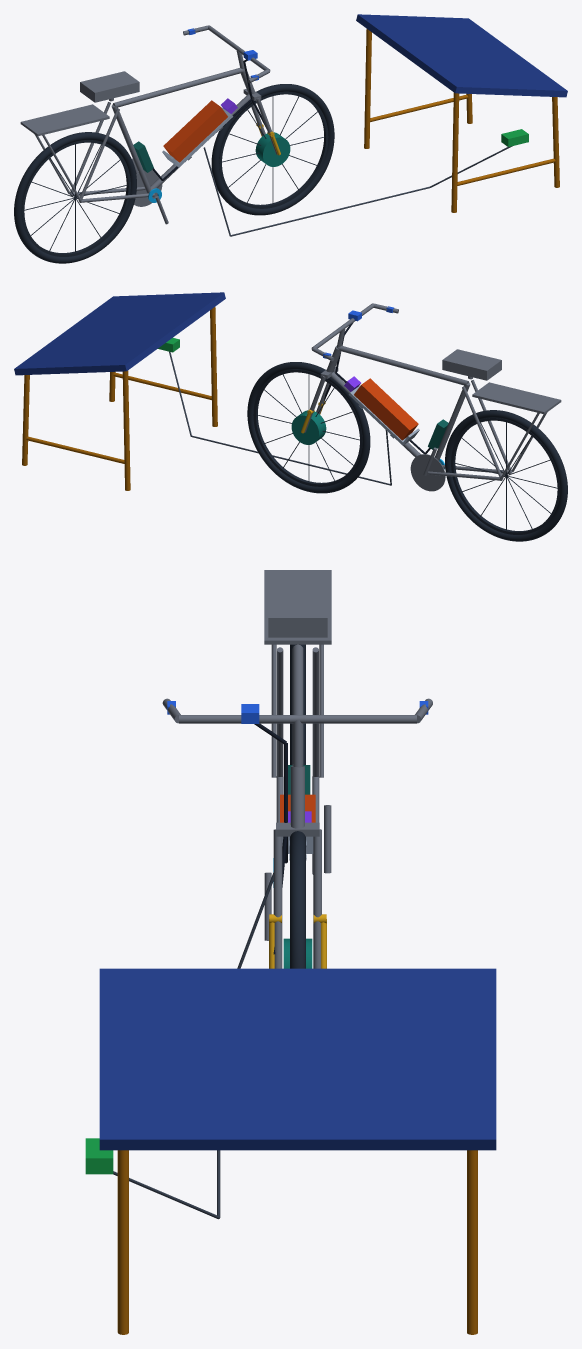
3 views of the same model, one above another, from view 1: azimuth 30°, elevation 25°; view 2: azimuth 150°, elevation 25°; view 3: azimuth 270°, elevation 25° (orthographic). The views are drawn at different scales.
Parts seen in each view (by area): view 1: Solar panel, 100 W, Donor wheels, Donor roadster frame, fork and bars, Panel stand (local make), SwapCell pack (not in kit cost), Charge cable, Front hub motor, 250 W geared, SwapCell receiver cradle and clamps, Boost MPPT charger, Wiring harness with fuse, Controller, sealed; view 2: Solar panel, 100 W, Donor wheels, Donor roadster frame, fork and bars, Panel stand (local make), SwapCell pack (not in kit cost), Front hub motor, 250 W geared, Charge cable, SwapCell receiver cradle and clamps, Controller, sealed; view 3: Solar panel, 100 W, Donor roadster frame, fork and bars, Panel stand (local make), Donor wheels, Charge cable.
Part boxes in pixels (<box>): Solar panel, 100 W: <box>356,14,567,97</box>; Donor wheels: <box>14,84,334,263</box>; Donor roadster frame, fork and bars: <box>20,25,277,224</box>; Panel stand (local make): <box>364,29,559,212</box>; SwapCell pack (not in kit cost): <box>163,100,227,162</box>; Charge cable: <box>203,146,512,236</box>; Front hub motor, 250 W geared: <box>255,132,290,166</box>; SwapCell receiver cradle and clamps: <box>162,107,233,167</box>; Boost MPPT charger: <box>501,129,528,146</box>; Wiring harness with fuse: <box>152,59,266,180</box>; Controller, sealed: <box>133,141,153,172</box>; Solar panel, 100 W: <box>14,292,225,375</box>; Donor wheels: <box>247,362,567,541</box>; Donor roadster frame, fork and bars: <box>304,303,561,491</box>; Panel stand (local make): <box>22,307,217,490</box>; SwapCell pack (not in kit cost): <box>354,378,418,440</box>; Front hub motor, 250 W geared: <box>291,410,326,444</box>; Charge cable: <box>169,351,391,485</box>; SwapCell receiver cradle and clamps: <box>348,385,419,445</box>; Controller, sealed: <box>428,419,448,449</box>; Solar panel, 100 W: <box>99,968,496,1150</box>; Donor roadster frame, fork and bars: <box>162,570,432,968</box>; Panel stand (local make): <box>117,1150,477,1334</box>; Donor wheels: <box>290,644,305,968</box>; Charge cable: <box>113,872,273,1219</box>.
Size of the model in its own units: 2.93 by 0.9904 by 1.04.
